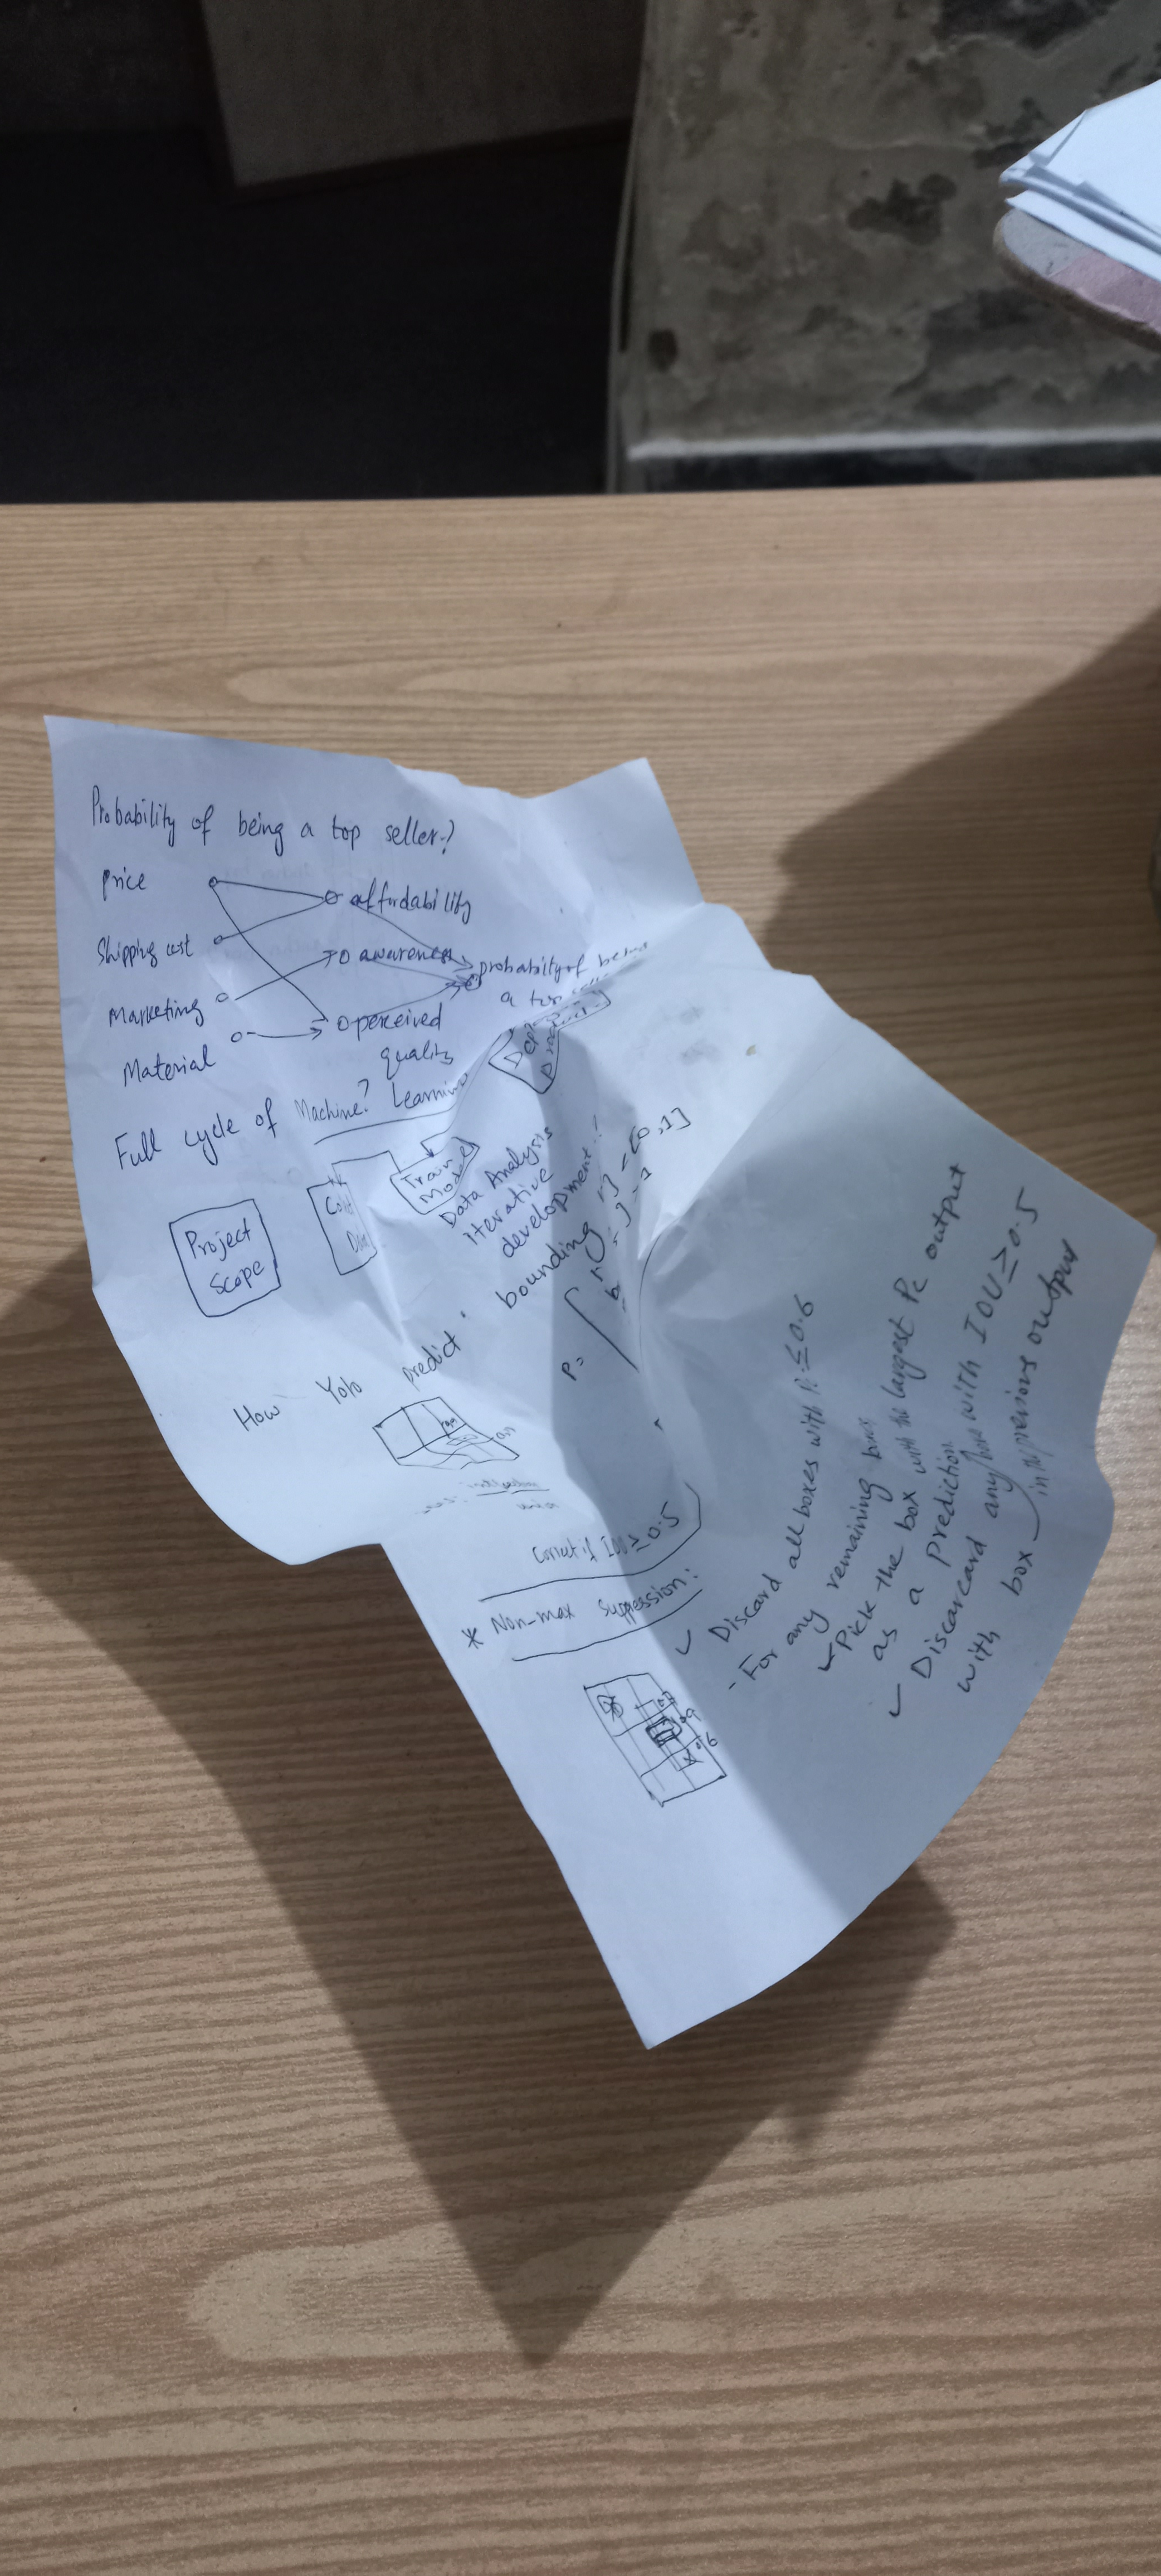paper: (23, 682, 1161, 2068)
